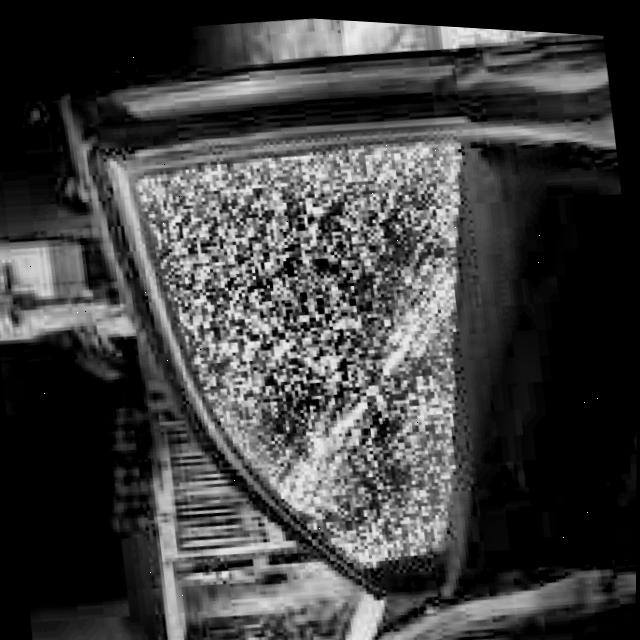glass_shatter: (141, 136, 485, 562)
